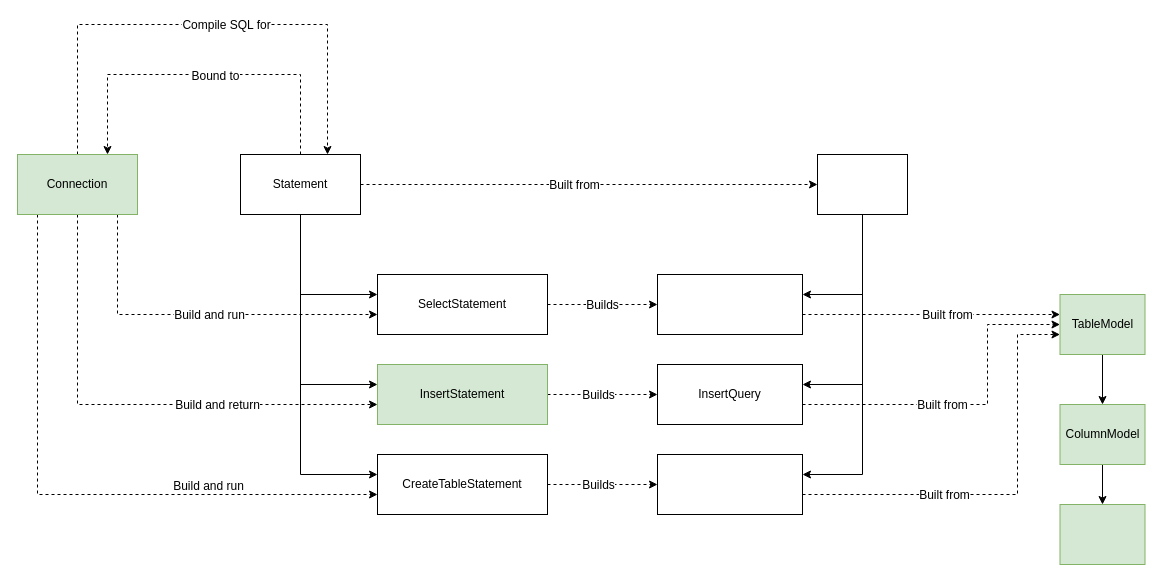
This 1163x582 diagram has some shape labels left out. Here are the shapes that lost their labels. From the top down, the box of each, then its label:
(816, 154, 908, 214): Query
(656, 274, 802, 334): SelectQuery
(656, 454, 802, 514): CreateTableQuery
(1059, 504, 1145, 564): ColumnType
